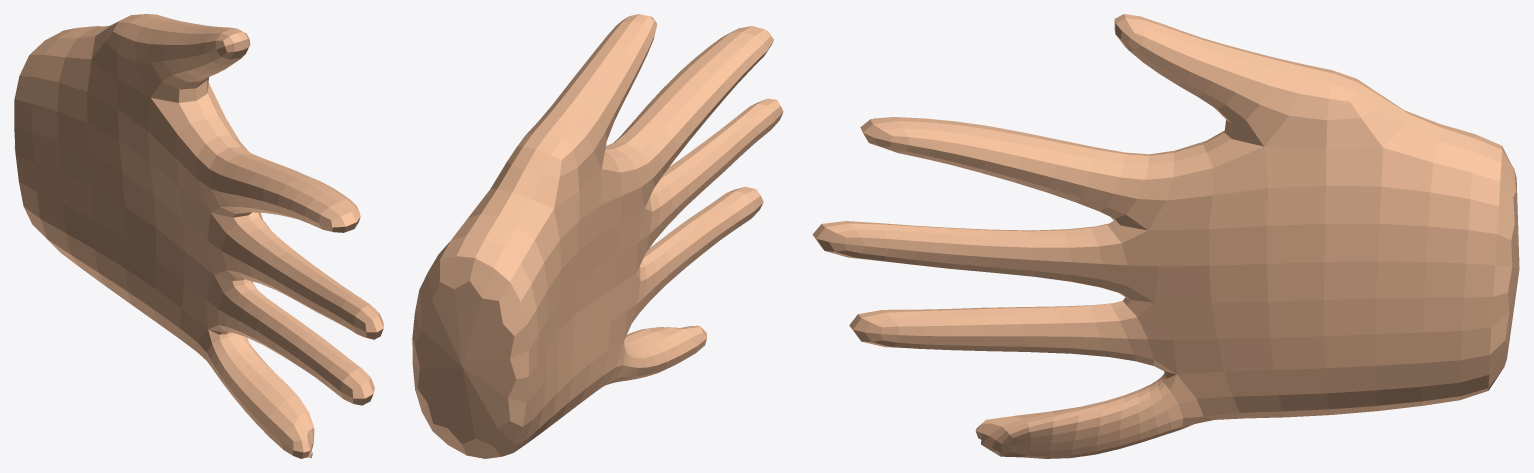
Rendered from hand.fbx.
3 views of the same model, side by side, from view 1: azimuth 30°, elevation 25°; view 2: azimuth 150°, elevation 25°; view 3: azimuth 270°, elevation 25° (orthographic). The views are drawn at different scales.
Parts seen in each view (by area): view 1: Cube; view 2: Cube; view 3: Cube.
Part boxes in pixels (<box>): Cube: <box>14,14,383,458</box>; Cube: <box>412,14,783,458</box>; Cube: <box>812,14,1519,458</box>.
Size of the model in its own units: 87.38 by 266 by 396.
1 material, 1 textured.
